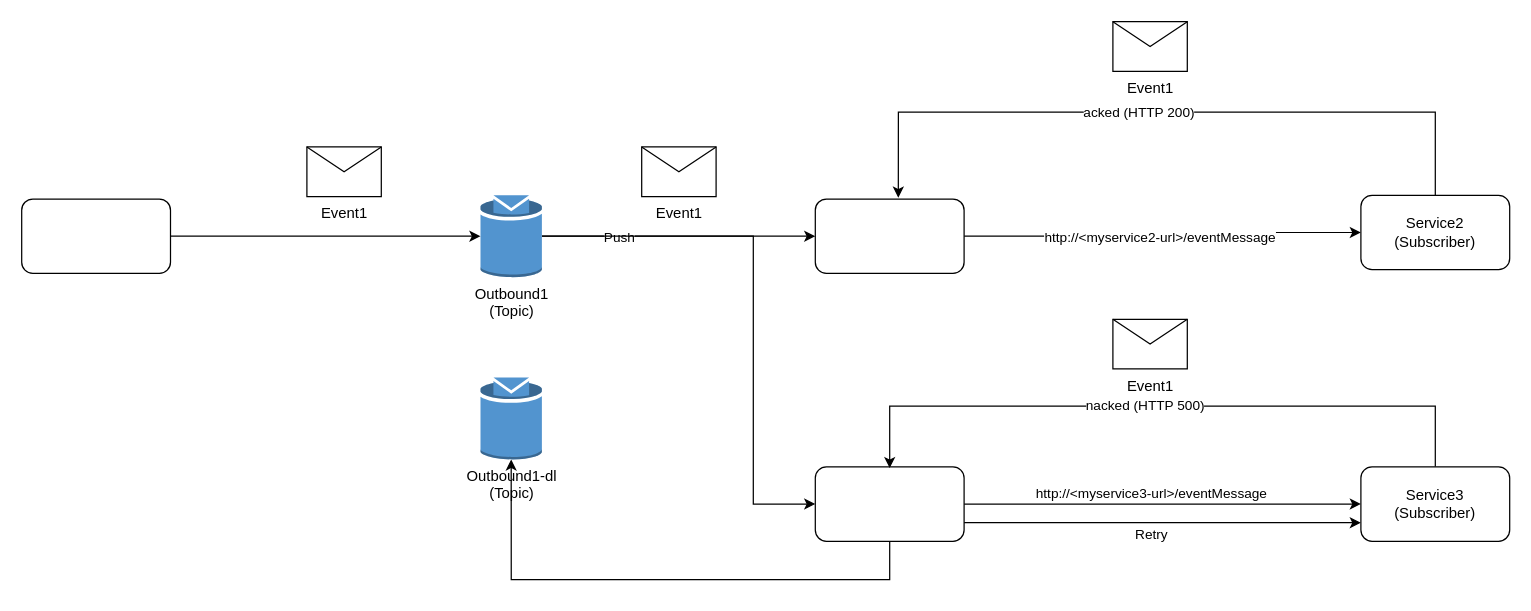
Image size: 1531x611. Some labels were removed from this diagram. Each missing label, with the box of its shape:
push-Service2 (Subscription): (814, 198, 964, 273)
push-Service3 (Subscription): (814, 466, 964, 541)
Service1 (Publisher): (20, 198, 170, 273)
